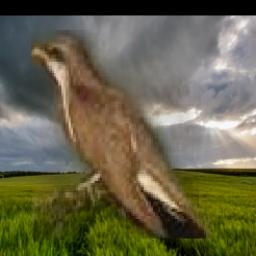Cuckoo: (30, 31, 210, 240)
